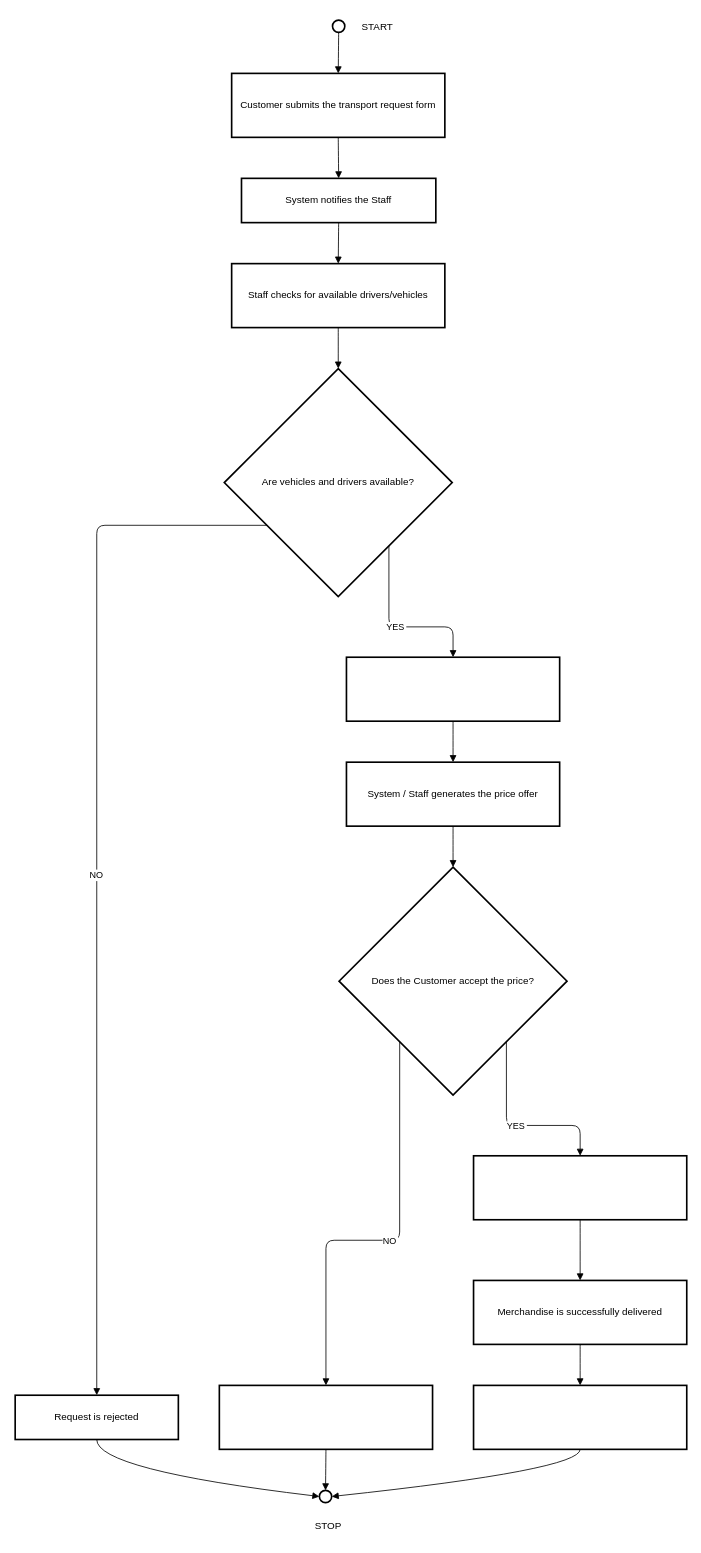
The diagram is 701 pixels wide and 1553 high, and some of its shapes have lost their labels. The shapes that lost their labels are listed below. From the top down, each one's box as (x1, y1, x2, y2) in pixels, then its label:
(345, 656, 560, 722): Staff allocates a vehicle and a driver
(472, 1155, 687, 1220): Job status is updated to In Transit
(218, 1384, 433, 1450): Job is canceled, resources are freed
(472, 1384, 687, 1450): Vehicle and driver are marked as available again
